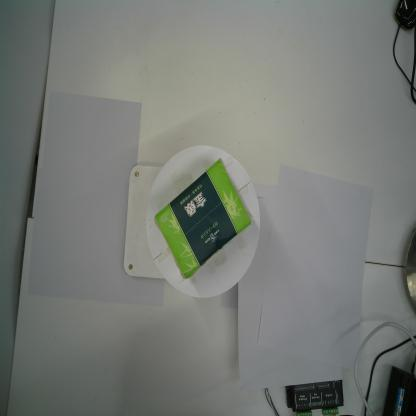Tissue: (152, 157, 253, 282)
